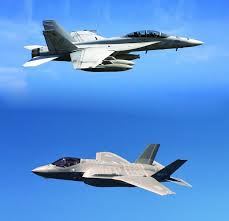fighter: (20, 17, 207, 76), (31, 140, 195, 199)
